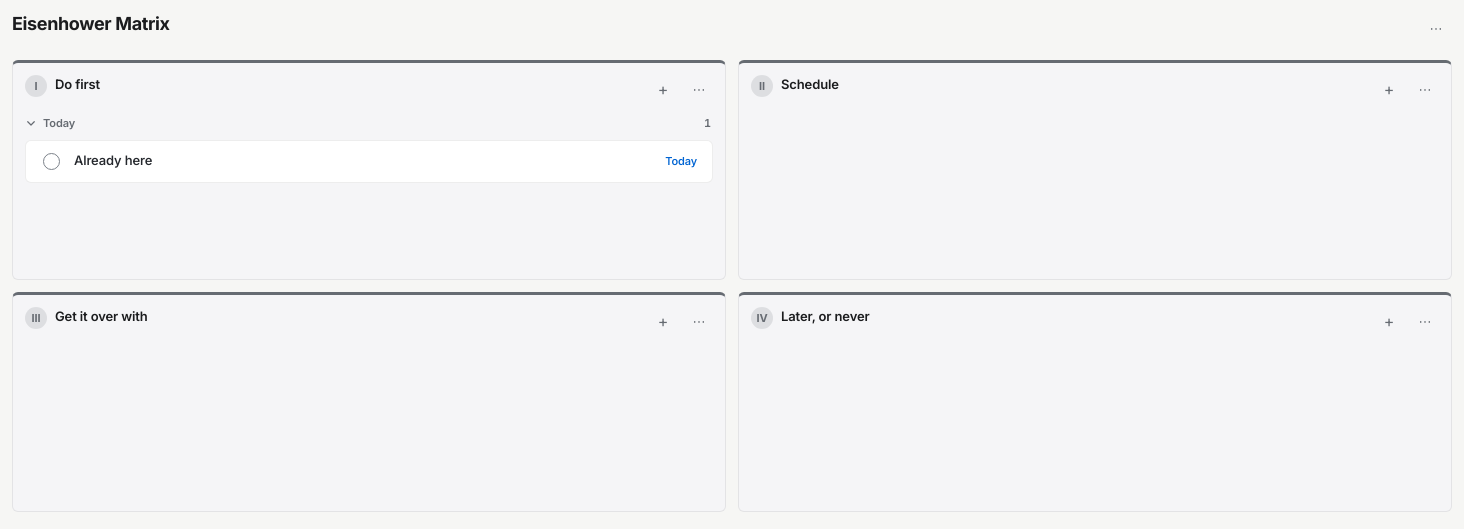
Test: the box's + › opens an input at the top of the box it was pressed in, and nowhere else
The image size is (1464, 529).
Step 1. Click the button named "Add a task to Do first" → (663, 89), box 649,75 -> 677,103
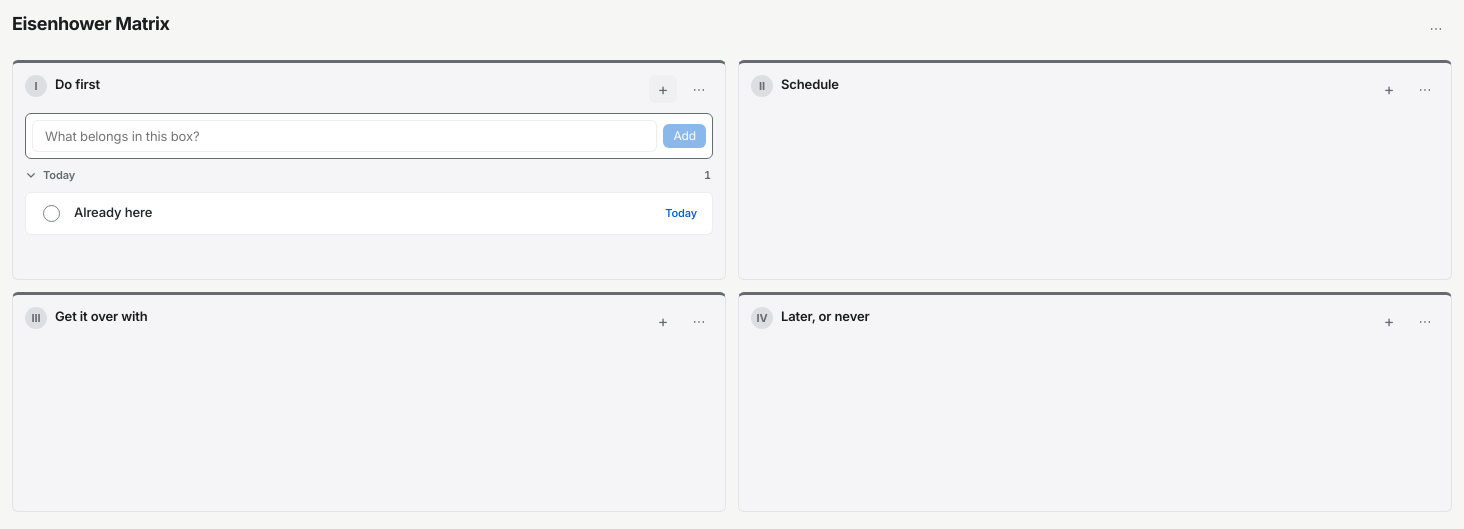
Expected: the number of forms with class "ff-matrix-quick-add" is 1, 25,113 -> 713,159
